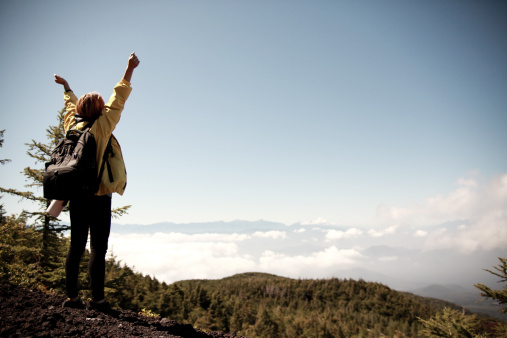em pe: (31, 58, 134, 313)
